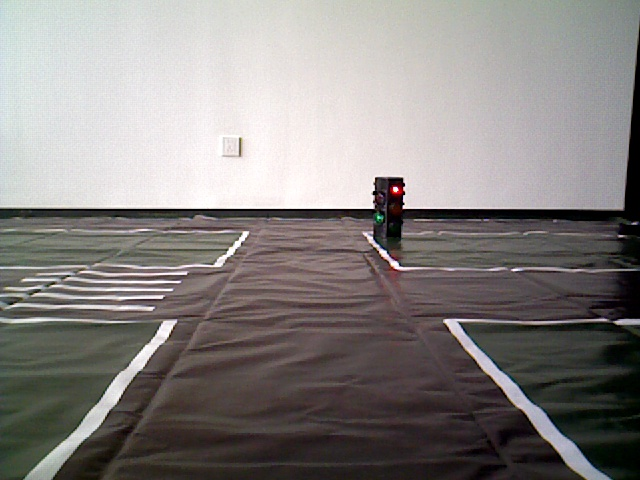red: (377, 175, 403, 243)
